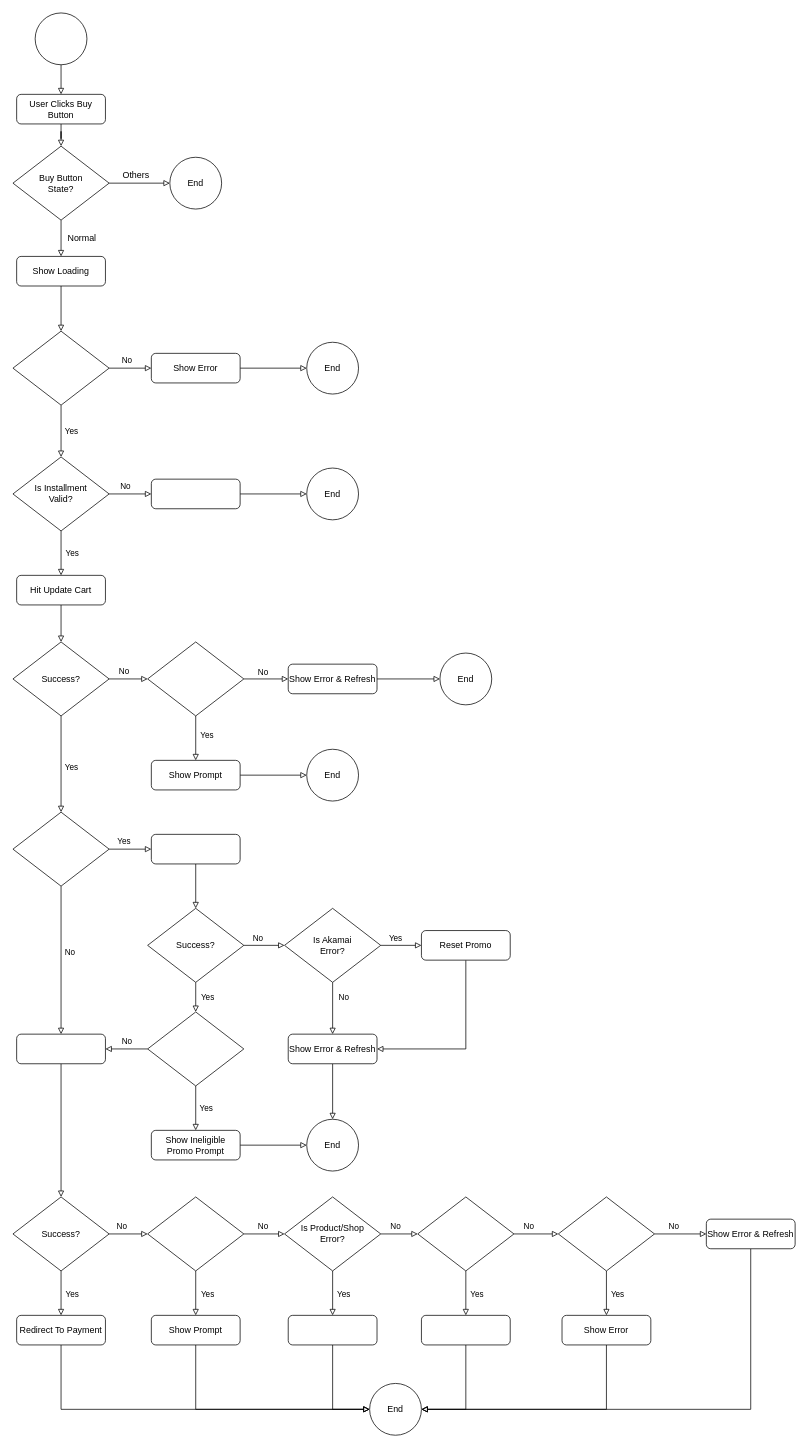
Some shapes in this 808 by 1448 pixel diagram are drawn without their labels. Here are the shapes that lost their labels. From the top down, the centre of each, then its label:
the point at 60,38: Start
the point at 60,367: Is User State Valid?
the point at 195,493: Show Installment Error
the point at 195,678: Has Prompt?
the point at 60,848: Should Hit Promo?
the point at 195,849: Hit Validate Use
the point at 60,1048: Hit Checkout
the point at 195,1048: Has Ineligible Promo?
the point at 195,1233: Has Prompt
the point at 465,1233: Is Price Change?
the point at 606,1233: is Network Error?
the point at 332,1330: Show Custom Error Prompt
the point at 465,1330: Show Price Change Prompt
